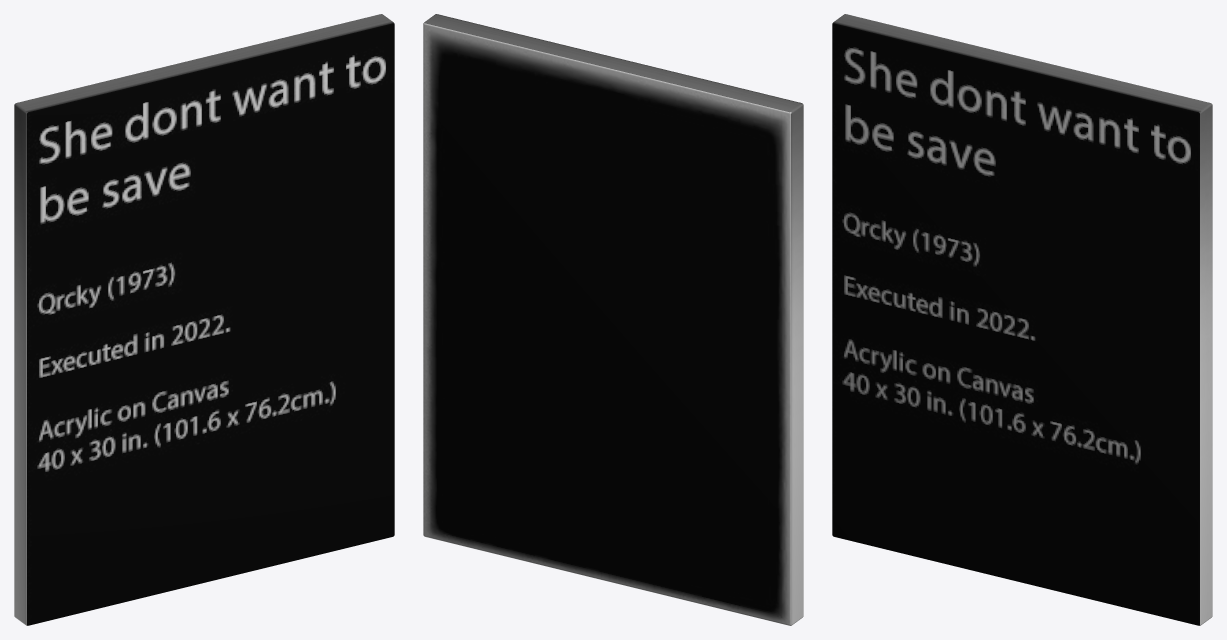
The model's file is She-dont-want-to-be-save.glb.
The picture shows the model from 3 angles, left to right: view 1: azimuth 30°, elevation 25°; view 2: azimuth 150°, elevation 25°; view 3: azimuth 330°, elevation 25°; orthographic projection.
Parts seen in each view (by area): view 1: Canvas; view 2: Canvas; view 3: Canvas.
Boxes of the visible parts, x1,y1,x2,y2 form: Canvas: (14,14,394,625); Canvas: (423,14,803,625); Canvas: (832,14,1212,625).
Size of the model in its own units: 1.56 by 2.08 by 0.0956.
Materials: 1 (1 with a texture image).
